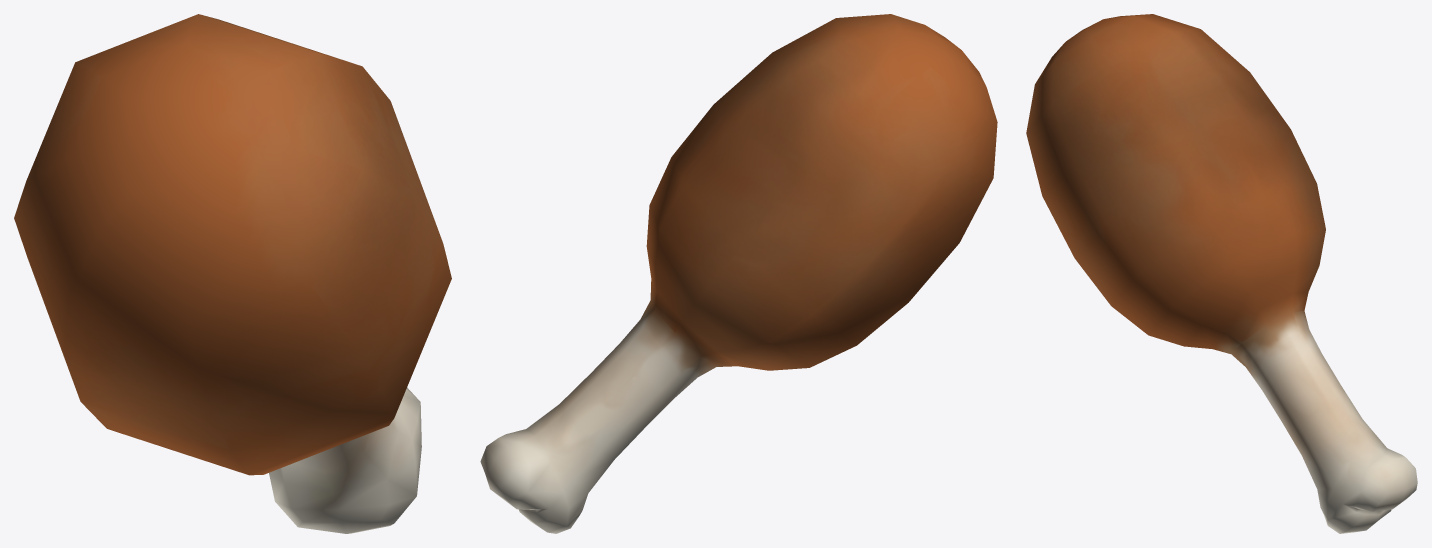
Rendered from ChickenThigh.fbx.
3 renders of one model, left to right at view 1: azimuth 30°, elevation 25°; view 2: azimuth 150°, elevation 25°; view 3: azimuth 270°, elevation 25°, orthographic. The views are drawn at different scales.
Visible parts, largest first — view 1: ChickenThigh; view 2: ChickenThigh; view 3: ChickenThigh.
Part boxes in pixels (bbox=[...]): ChickenThigh: bbox=[14, 14, 451, 533]; ChickenThigh: bbox=[480, 14, 997, 533]; ChickenThigh: bbox=[1026, 14, 1417, 533].
Size of the model in its own units: 0.4136 by 0.5009 by 0.4281.
